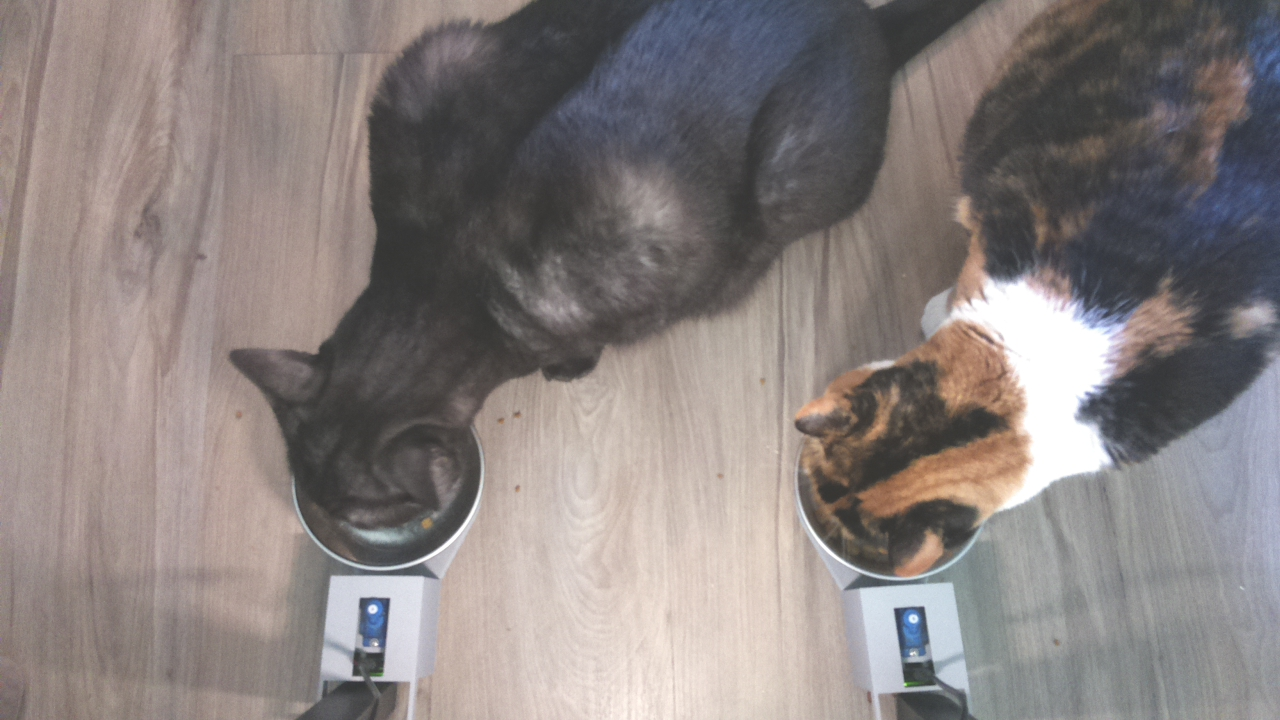bella_eating: (776, 298, 1099, 589)
saki_eating: (215, 304, 498, 577)
